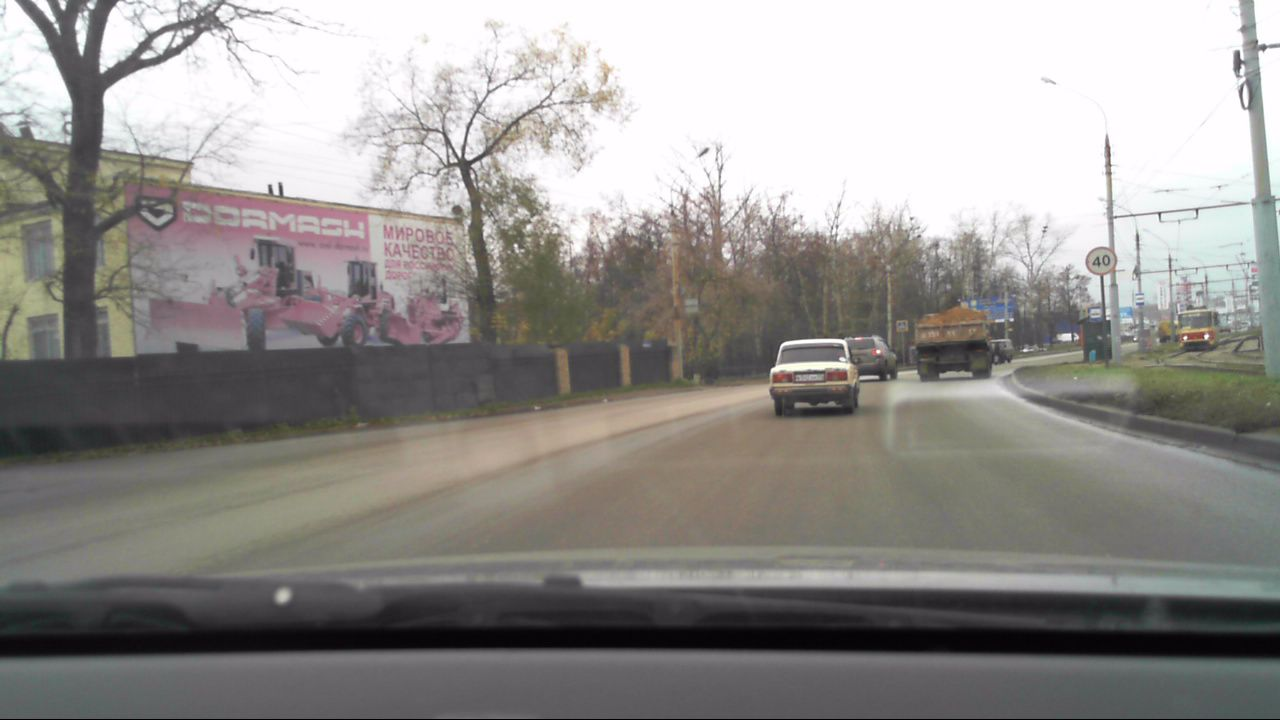speed_warning_40: (1084, 245, 1118, 276)
